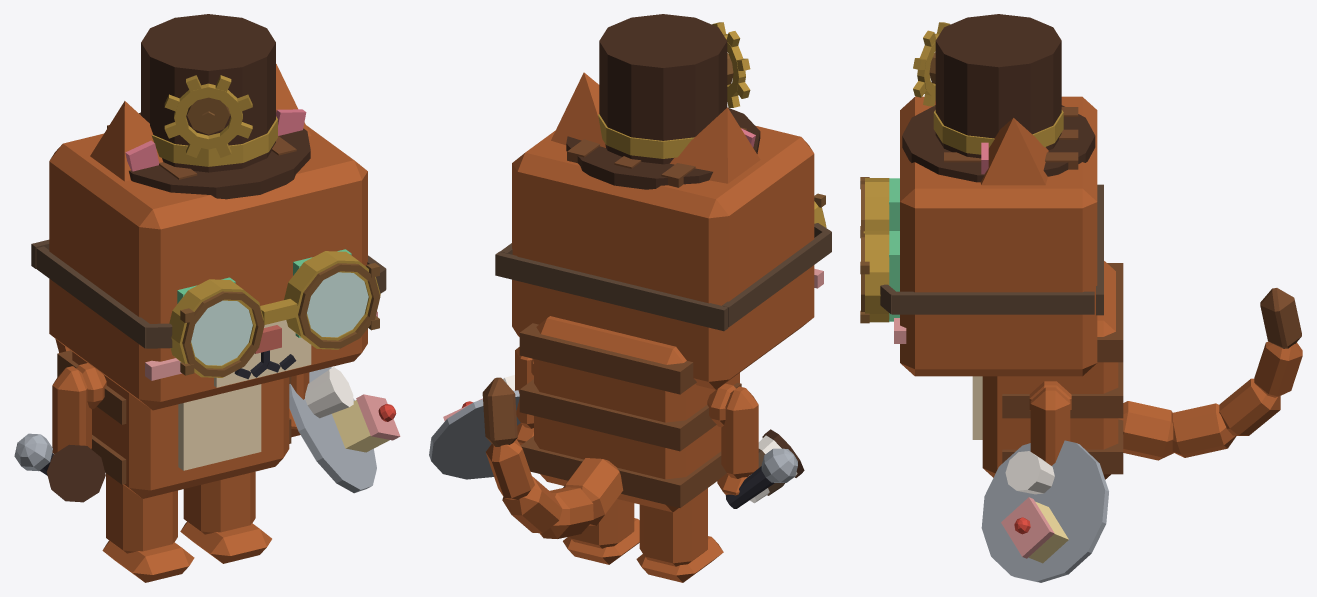
Rendered from CatCafe_Cat_Gears_Work.glb.
The picture shows the model from 3 angles, left to right: view 1: azimuth 30°, elevation 25°; view 2: azimuth 150°, elevation 25°; view 3: azimuth 270°, elevation 25°; orthographic projection. The views are drawn at different scales.
Visible parts, largest first — view 1: CatCafe_Cat_Gears_Work_Head, CatCafe_Cat_Gears_Work_Prop2, CatCafe_Cat_Gears_Work_Body, CatCafe_Cat_Gears_Work_Prop, CatCafe_Cat_Gears_Work_Held_Waiter, CatCafe_Cat_Gears_Work_LegB2, CatCafe_Cat_Gears_Work_Prop_Glass, CatCafe_Cat_Gears_Work_LegB1, CatCafe_Cat_Gears_Work_EarR, CatCafe_Cat_Gears_Work_LegF2, CatCafe_Cat_Gears_Work_Held_Barista, CatCafe_Cat_Gears_Work_EarL (+1 smaller); view 2: CatCafe_Cat_Gears_Work_Head, CatCafe_Cat_Gears_Work_Body, CatCafe_Cat_Gears_Work_Prop2, CatCafe_Cat_Gears_Work_Tail, CatCafe_Cat_Gears_Work_Prop, CatCafe_Cat_Gears_Work_LegB2, CatCafe_Cat_Gears_Work_Held_Waiter, CatCafe_Cat_Gears_Work_EarR, CatCafe_Cat_Gears_Work_LegF2, CatCafe_Cat_Gears_Work_LegB1, CatCafe_Cat_Gears_Work_EarL, CatCafe_Cat_Gears_Work_Held_Entertainer (+2 smaller); view 3: CatCafe_Cat_Gears_Work_Head, CatCafe_Cat_Gears_Work_Prop2, CatCafe_Cat_Gears_Work_Held_Waiter, CatCafe_Cat_Gears_Work_Body, CatCafe_Cat_Gears_Work_Tail, CatCafe_Cat_Gears_Work_Prop, CatCafe_Cat_Gears_Work_EarL, CatCafe_Cat_Gears_Work_LegF1, CatCafe_Cat_Gears_Work_Eye1, CatCafe_Cat_Gears_Work_Eye2.
Boxes of the visible parts, left/top/right/bottom form: CatCafe_Cat_Gears_Work_Head: left=49, top=125, right=377, bottom=410; CatCafe_Cat_Gears_Work_Prop2: left=129, top=14, right=310, bottom=199; CatCafe_Cat_Gears_Work_Body: left=57, top=350, right=291, bottom=498; CatCafe_Cat_Gears_Work_Prop: left=31, top=239, right=386, bottom=377; CatCafe_Cat_Gears_Work_Held_Waiter: left=289, top=367, right=400, bottom=493; CatCafe_Cat_Gears_Work_LegB2: left=102, top=473, right=194, bottom=582; CatCafe_Cat_Gears_Work_Prop_Glass: left=191, top=272, right=368, bottom=365; CatCafe_Cat_Gears_Work_LegB1: left=180, top=471, right=271, bottom=563; CatCafe_Cat_Gears_Work_EarR: left=90, top=101, right=163, bottom=181; CatCafe_Cat_Gears_Work_LegF2: left=52, top=366, right=91, bottom=453; CatCafe_Cat_Gears_Work_Held_Barista: left=46, top=444, right=105, bottom=502; CatCafe_Cat_Gears_Work_EarL: left=276, top=64, right=310, bottom=136; CatCafe_Cat_Gears_Work_Head: left=512, top=125, right=823, bottom=389; CatCafe_Cat_Gears_Work_Body: left=519, top=316, right=741, bottom=512; CatCafe_Cat_Gears_Work_Prop2: left=566, top=14, right=760, bottom=189; CatCafe_Cat_Gears_Work_Tail: left=482, top=377, right=623, bottom=538; CatCafe_Cat_Gears_Work_Prop: left=495, top=193, right=831, bottom=331; CatCafe_Cat_Gears_Work_LegB2: left=636, top=488, right=723, bottom=582; CatCafe_Cat_Gears_Work_Held_Waiter: left=429, top=375, right=520, bottom=479; CatCafe_Cat_Gears_Work_EarR: left=670, top=107, right=760, bottom=183; CatCafe_Cat_Gears_Work_LegF2: left=717, top=386, right=758, bottom=495; CatCafe_Cat_Gears_Work_LegB1: left=563, top=499, right=639, bottom=564; CatCafe_Cat_Gears_Work_EarL: left=551, top=72, right=605, bottom=147; CatCafe_Cat_Gears_Work_Held_Entertainer: left=725, top=448, right=797, bottom=508; CatCafe_Cat_Gears_Work_Head: left=894, top=96, right=1097, bottom=376; CatCafe_Cat_Gears_Work_Prop2: left=902, top=14, right=1095, bottom=182; CatCafe_Cat_Gears_Work_Held_Waiter: left=981, top=440, right=1108, bottom=582; CatCafe_Cat_Gears_Work_Body: left=972, top=261, right=1123, bottom=479; CatCafe_Cat_Gears_Work_Tail: left=1118, top=288, right=1302, bottom=460; CatCafe_Cat_Gears_Work_Prop: left=860, top=177, right=1103, bottom=323; CatCafe_Cat_Gears_Work_EarL: left=980, top=118, right=1048, bottom=185; CatCafe_Cat_Gears_Work_LegF1: left=1030, top=387, right=1070, bottom=465; CatCafe_Cat_Gears_Work_Eye1: left=889, top=231, right=899, bottom=321; CatCafe_Cat_Gears_Work_Eye2: left=889, top=178, right=899, bottom=230.
Size of the model in its own units: 1.53 by 2.11 by 1.7.
Materials: 1 (1 with a texture image).
